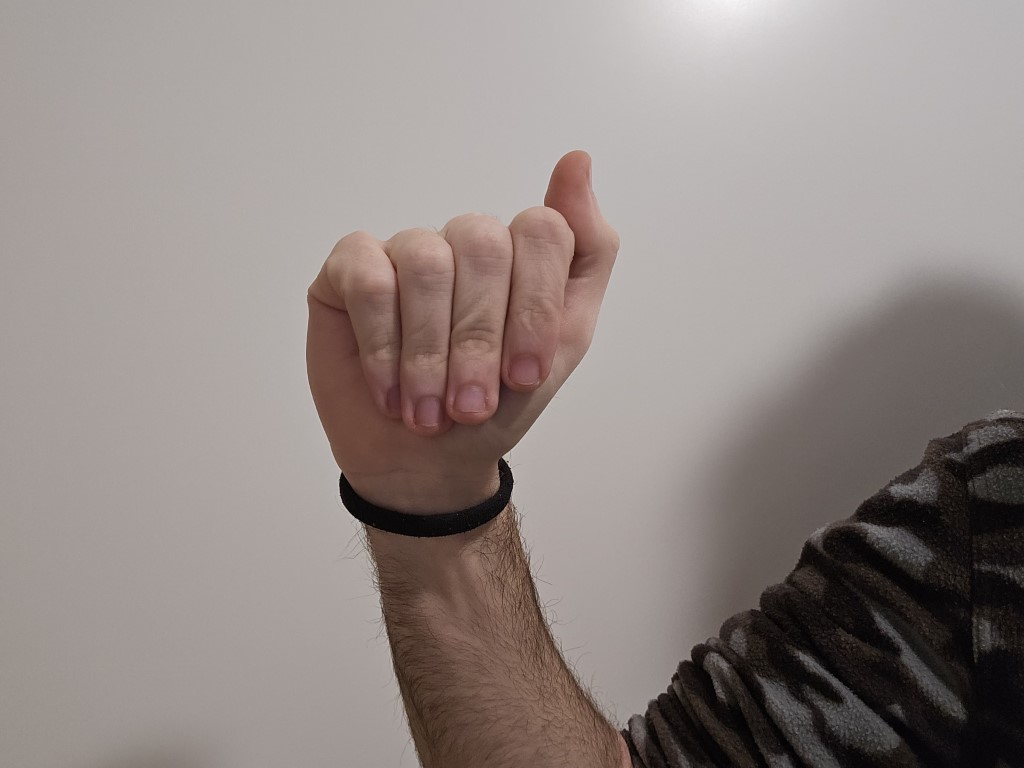a: (247, 115, 654, 547)
